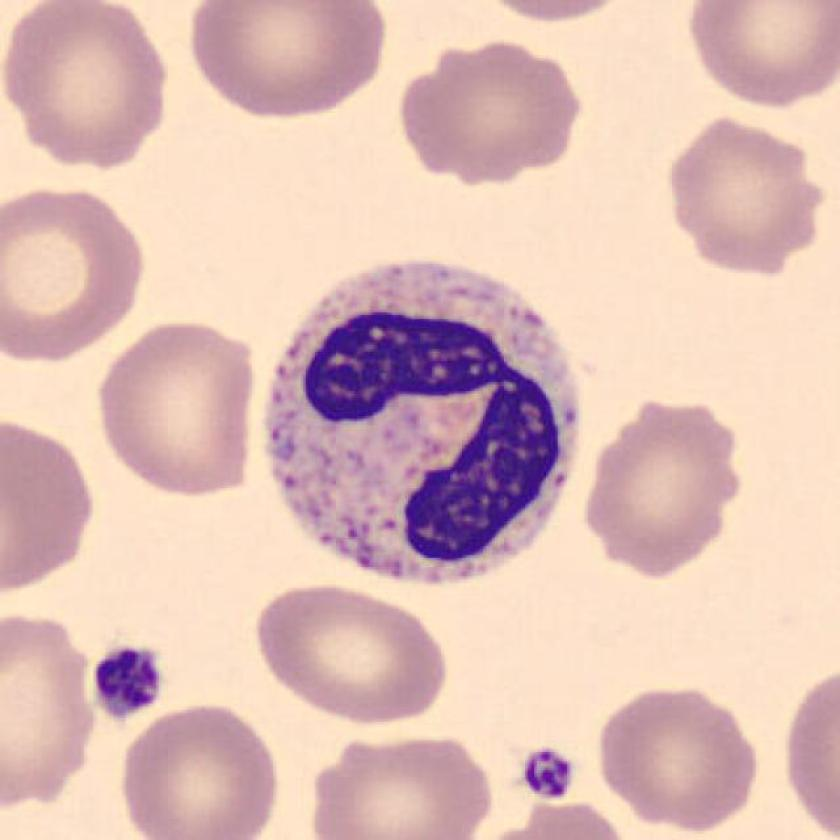neutrophil: (270, 264, 580, 581)
